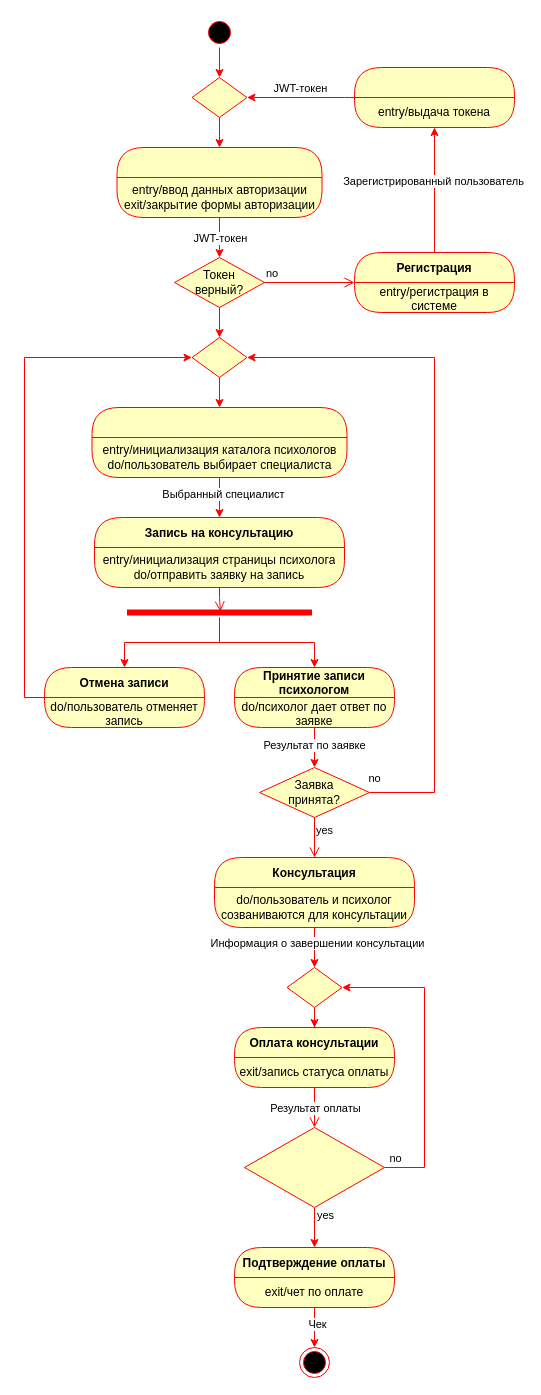
The diagram is 541 pixels wide and 1395 high, and some of its shapes have lost their labels. Each missing label, with the box of its shape:
Авторизация: (116, 146, 322, 218)
Аунтентификация: (354, 66, 514, 128)
Выбор психолога: (91, 406, 347, 478)
Оплата прошла успешно?: (244, 1126, 384, 1208)
